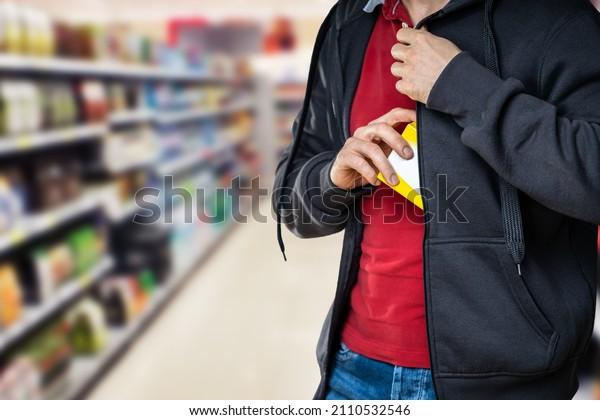shoplifting: (261, 11, 578, 257)
